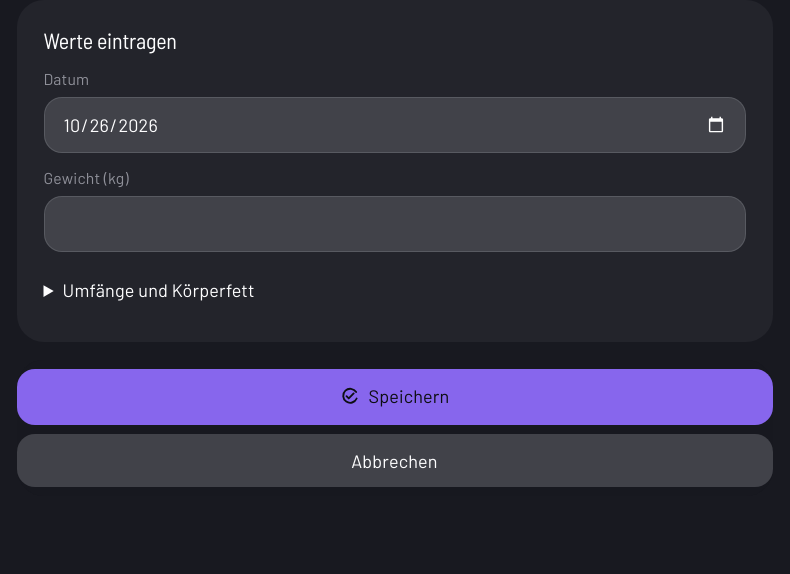
Test: BodyEntryForm › refuses an implausible value without writing
The width and height of the screenshot is (790, 574).
In the number field labelled "Gewicht (kg)": (394, 224) [44, 196, 746, 252], type "900"
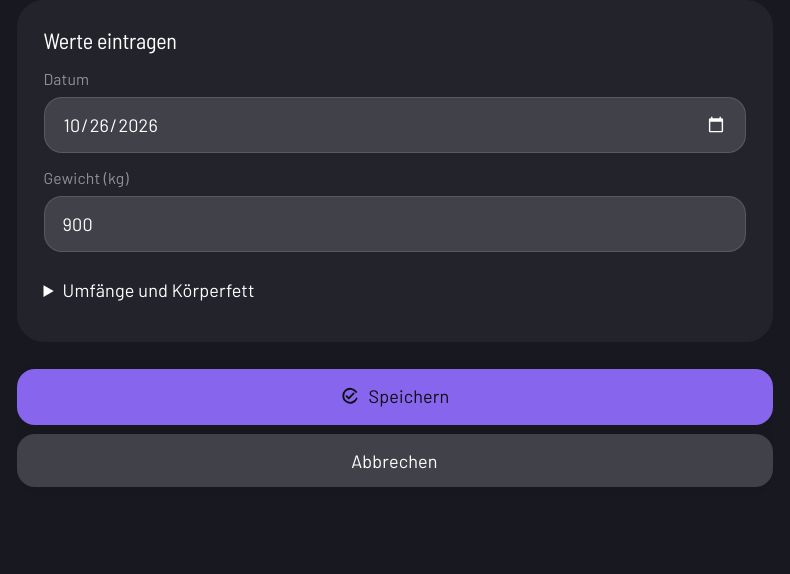
Click the button "Speichern": (394, 397) [16, 369, 772, 425]
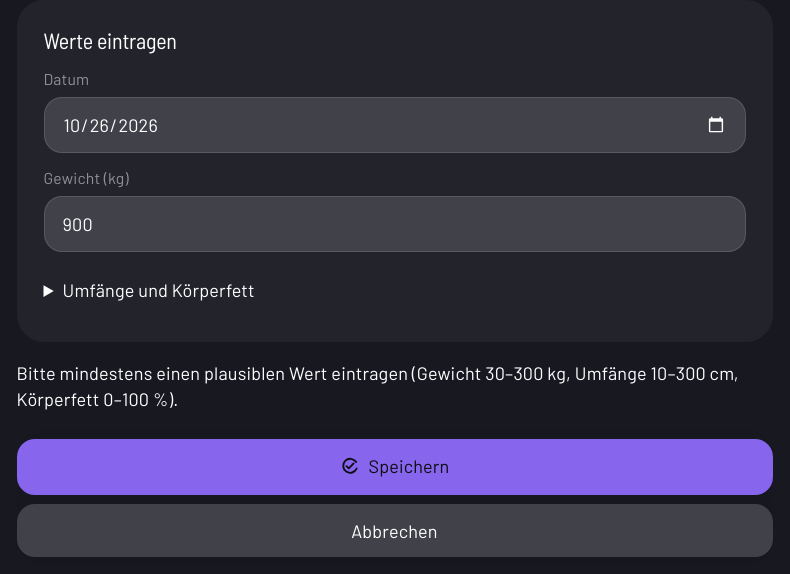
Now the message is shown, box [16, 360, 772, 412]
